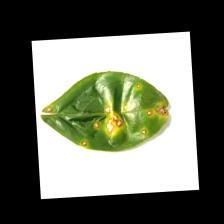canker: (45, 78, 167, 163)
